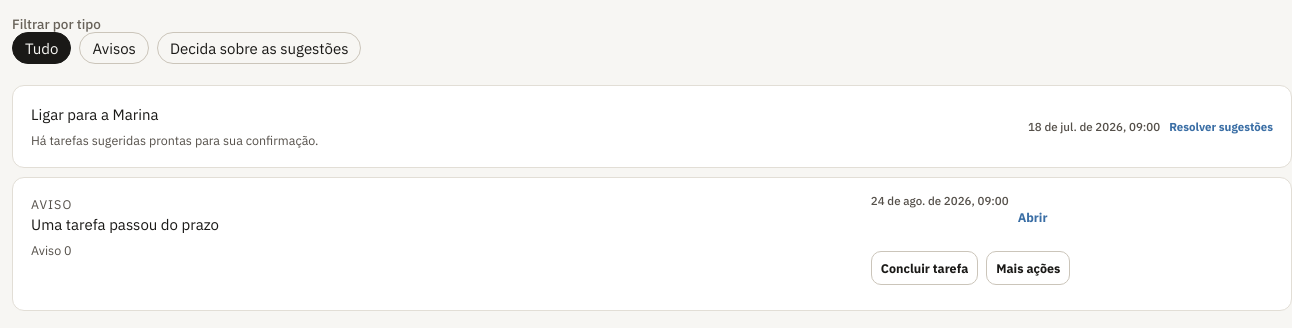
clause 5: the existing filters behave exactly as they did › keeps the empty-filtered sentence honest about a queue that holds notices
The image size is (1292, 328).
Click the button "Avisos" at (114, 48), box [80, 32, 149, 64]
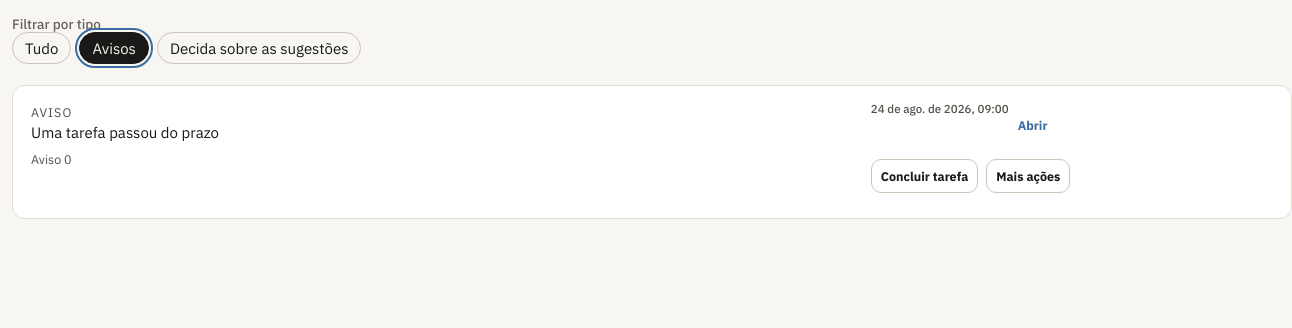
Click the button "Decida sobre as sugestões" at (259, 48), box [157, 32, 361, 64]
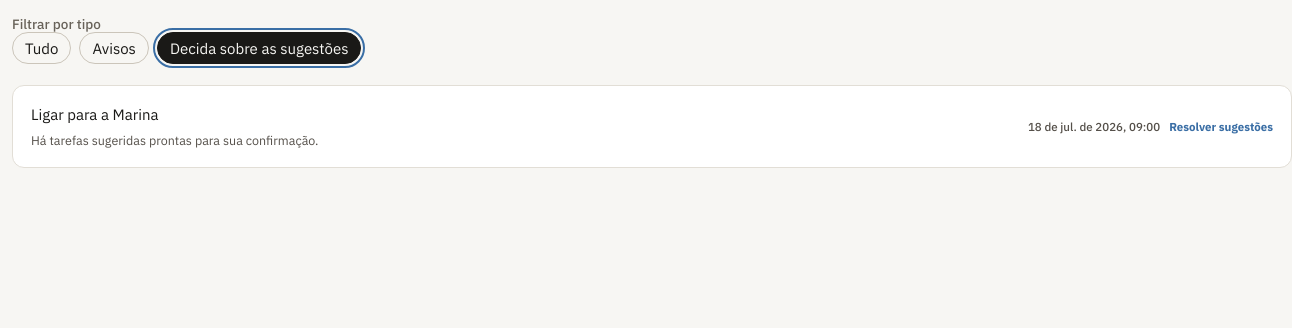
Check: the text "Ligar para a Marina" is shown, box [31, 105, 158, 124]
